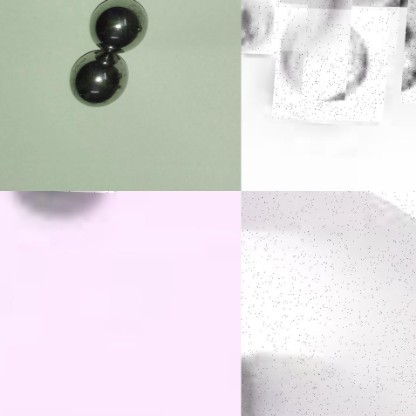ironball: (273, 16, 372, 101), (64, 53, 140, 107), (83, 1, 154, 50), (241, 0, 282, 52)
